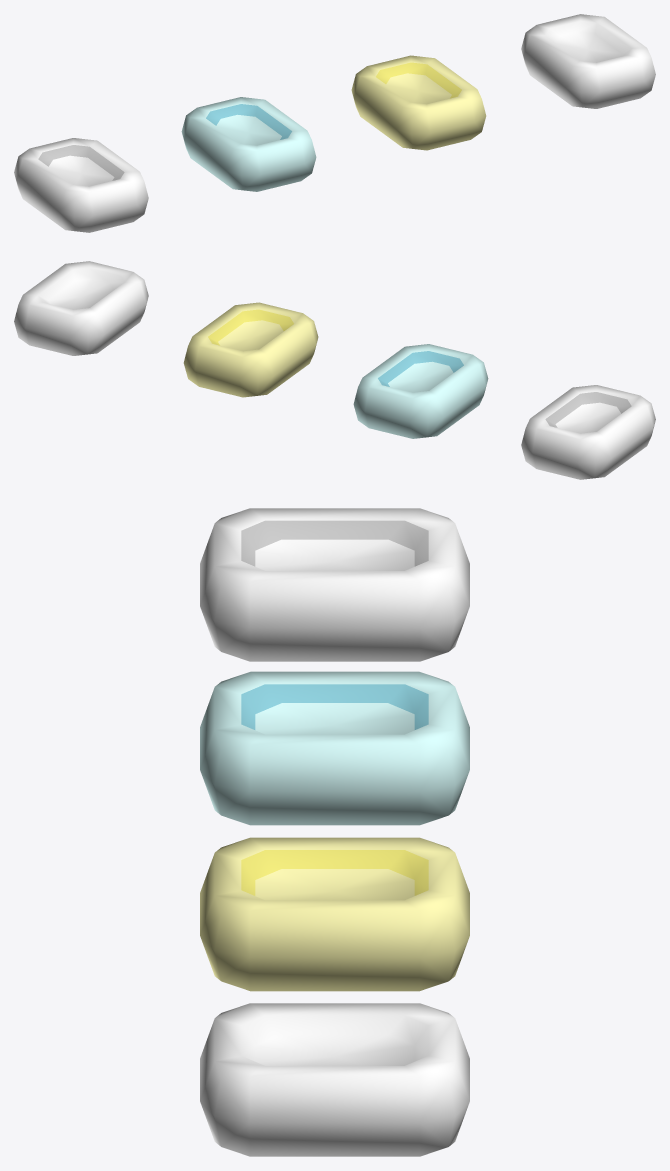
Rendered from soap.fbx.
3 renders of one model, top to bottom at view 1: azimuth 30°, elevation 25°; view 2: azimuth 150°, elevation 25°; view 3: azimuth 270°, elevation 25°, orthographic. The views are drawn at different scales.
Visible parts, largest first — view 1: SoapPink, SoapWhite, SoapYellow, SoapBlue; view 2: SoapPink, SoapWhite, SoapYellow, SoapBlue; view 3: SoapYellow, SoapBlue, SoapPink, SoapWhite.
Boxes of the visible parts, x1,y1,x2,y2 form: SoapPink: [521, 14, 655, 108]; SoapWhite: [14, 138, 148, 232]; SoapYellow: [351, 55, 486, 150]; SoapBlue: [181, 97, 316, 191]; SoapPink: [14, 261, 148, 355]; SoapWhite: [521, 385, 655, 479]; SoapYellow: [183, 302, 318, 397]; SoapBlue: [353, 344, 488, 438]; SoapYellow: [200, 837, 469, 991]; SoapBlue: [200, 671, 469, 825]; SoapPink: [200, 1003, 469, 1156]; SoapWhite: [200, 508, 469, 661].
Size of the model in its own units: 0.9041 by 0.0586 by 0.1777.
